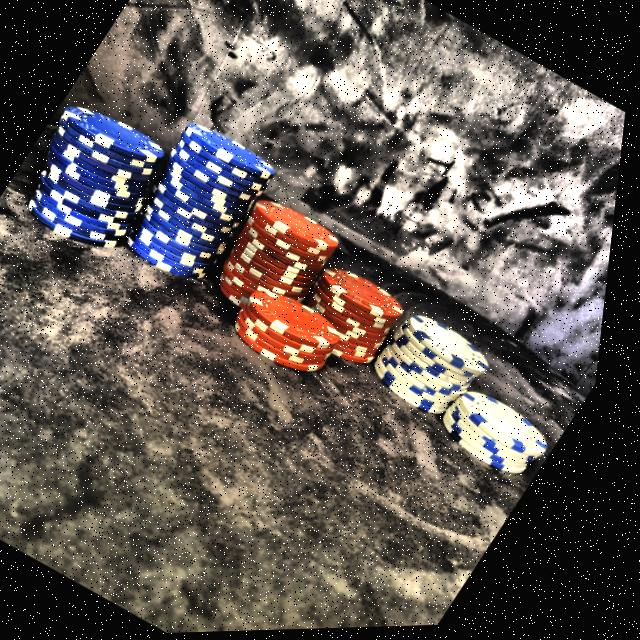Chip: (101, 102, 299, 309), (0, 81, 195, 275), (190, 172, 378, 351), (355, 290, 515, 435), (273, 248, 425, 392), (219, 254, 376, 392), (422, 363, 576, 493)
